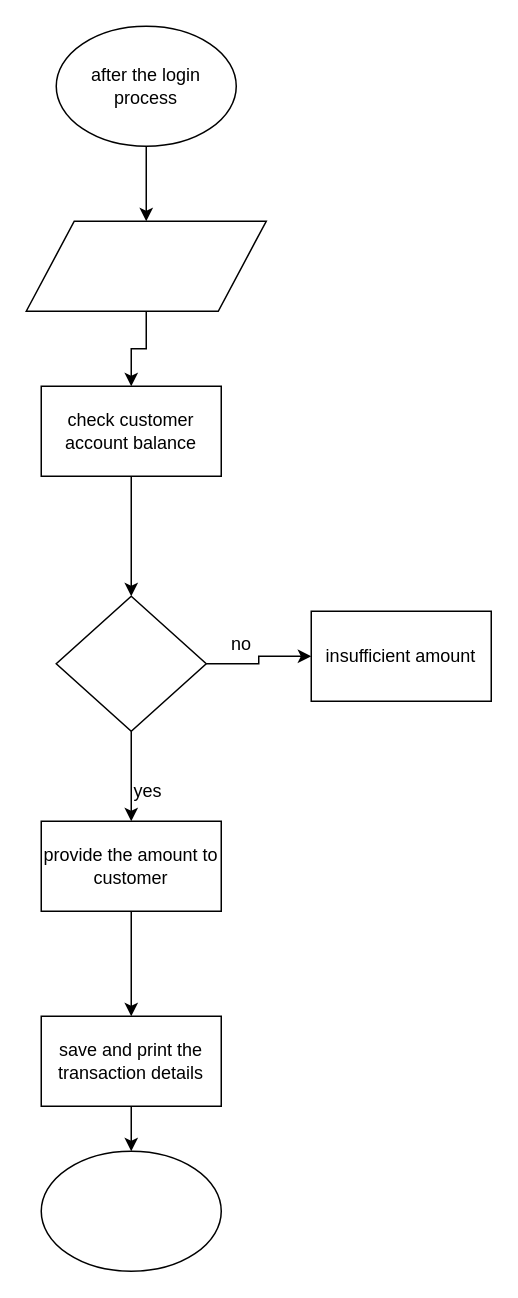
Image size: 518x1298. Some labels were removed from this diagram. The shapes that lost their labels are listed below. From the top down, each one's centre as x and y in pixels, then its label:
point 145,265: customer requests for withdraw
point 130,663: if balance is sufficient
point 130,1210: thank visit again
